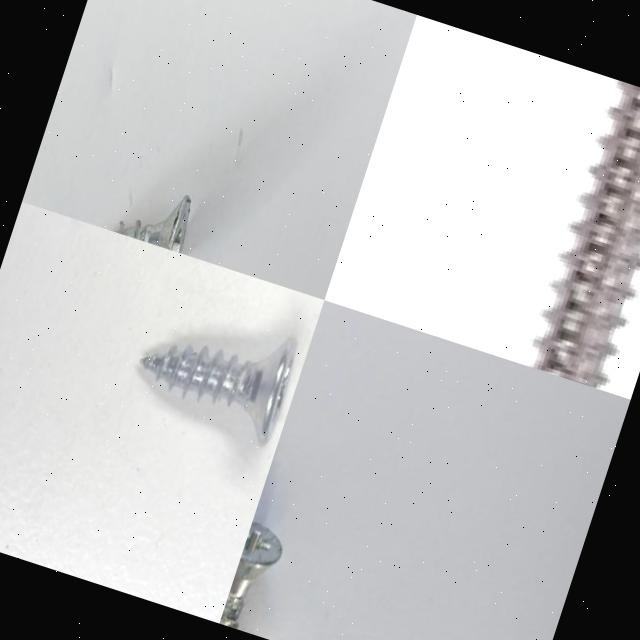Screw: (527, 82, 640, 392), (140, 336, 297, 445), (219, 521, 282, 629), (114, 195, 191, 254)
